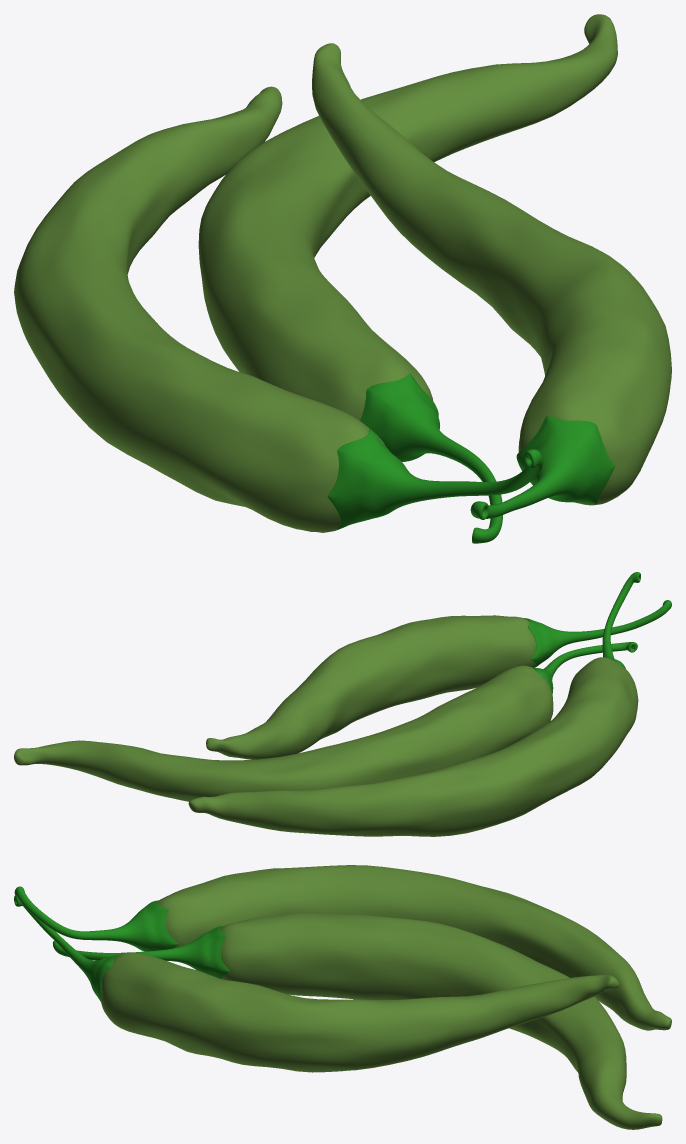
The model's file is chillis.fbx.
3 views of the same model, one above another, from view 1: azimuth 30°, elevation 25°; view 2: azimuth 150°, elevation 25°; view 3: azimuth 270°, elevation 25° (orthographic). The views are drawn at different scales.
Parts seen in each view (by area): view 1: Pepper_Chili_01; view 2: Pepper_Chili_01; view 3: Pepper_Chili_01.
Part boxes in pixels (x1=…): Pepper_Chili_01: x1=14, y1=14, x2=671, y2=543; Pepper_Chili_01: x1=14, y1=572, x2=671, y2=836; Pepper_Chili_01: x1=14, y1=865, x2=671, y2=1129.
Size of the model in its own units: 931 by 183 by 1106.
